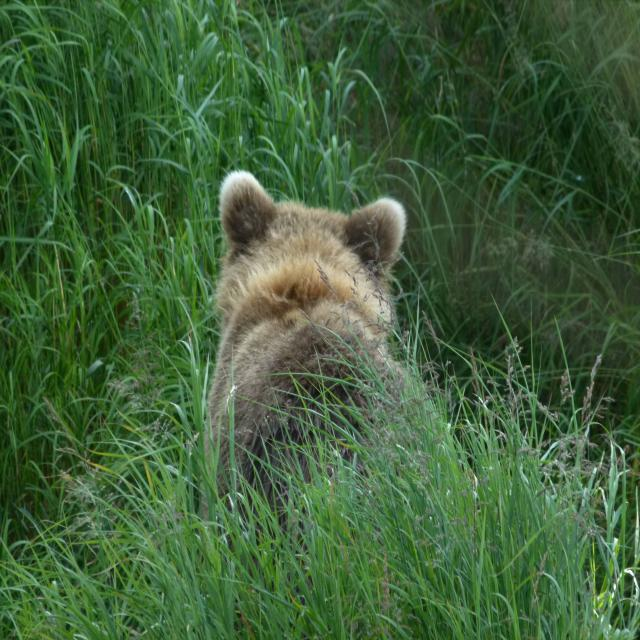bear face: (209, 169, 439, 483)
